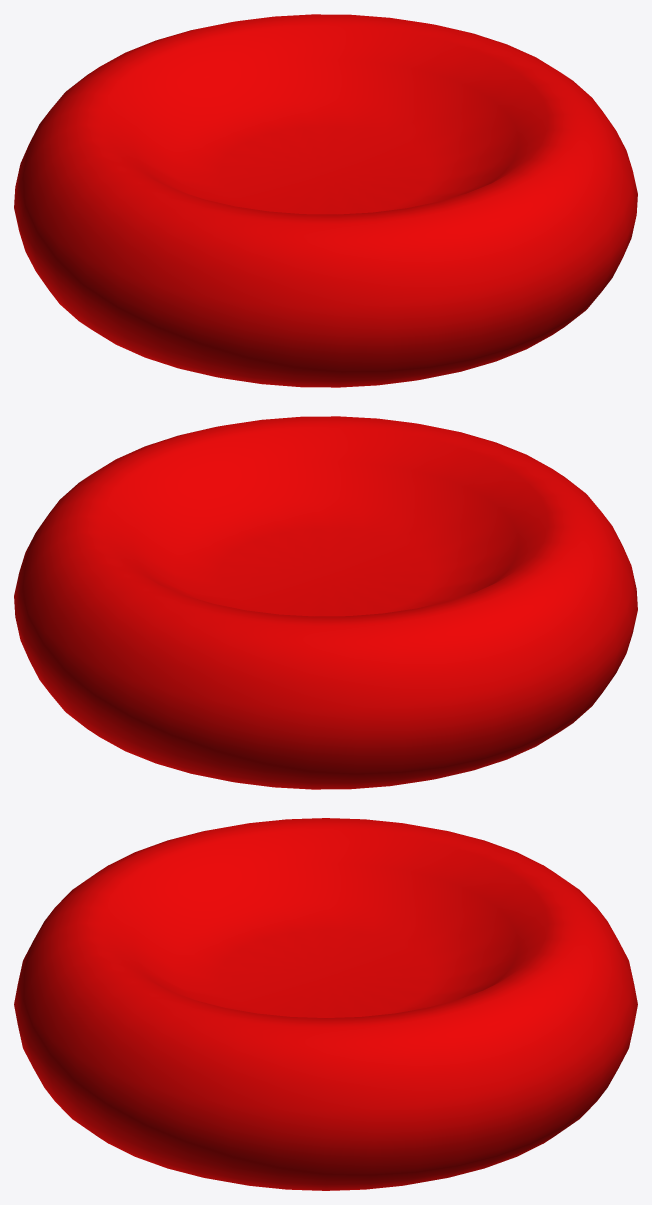
File: red_blood_cell_draft_2_geo.fbx
The picture shows the model from 3 angles, top to bottom: view 1: azimuth 30°, elevation 25°; view 2: azimuth 150°, elevation 25°; view 3: azimuth 270°, elevation 25°; orthographic projection.
Visible parts, largest first — view 1: red_blood_cell_draft_geo; view 2: red_blood_cell_draft_geo; view 3: red_blood_cell_draft_geo.
Part boxes in pixels (x1,y1,x2,y2): red_blood_cell_draft_geo: [14, 14, 637, 387]; red_blood_cell_draft_geo: [14, 416, 637, 789]; red_blood_cell_draft_geo: [14, 818, 637, 1190].
Bounding box in the file's own units: 2.26 × 0.6494 × 2.26.
